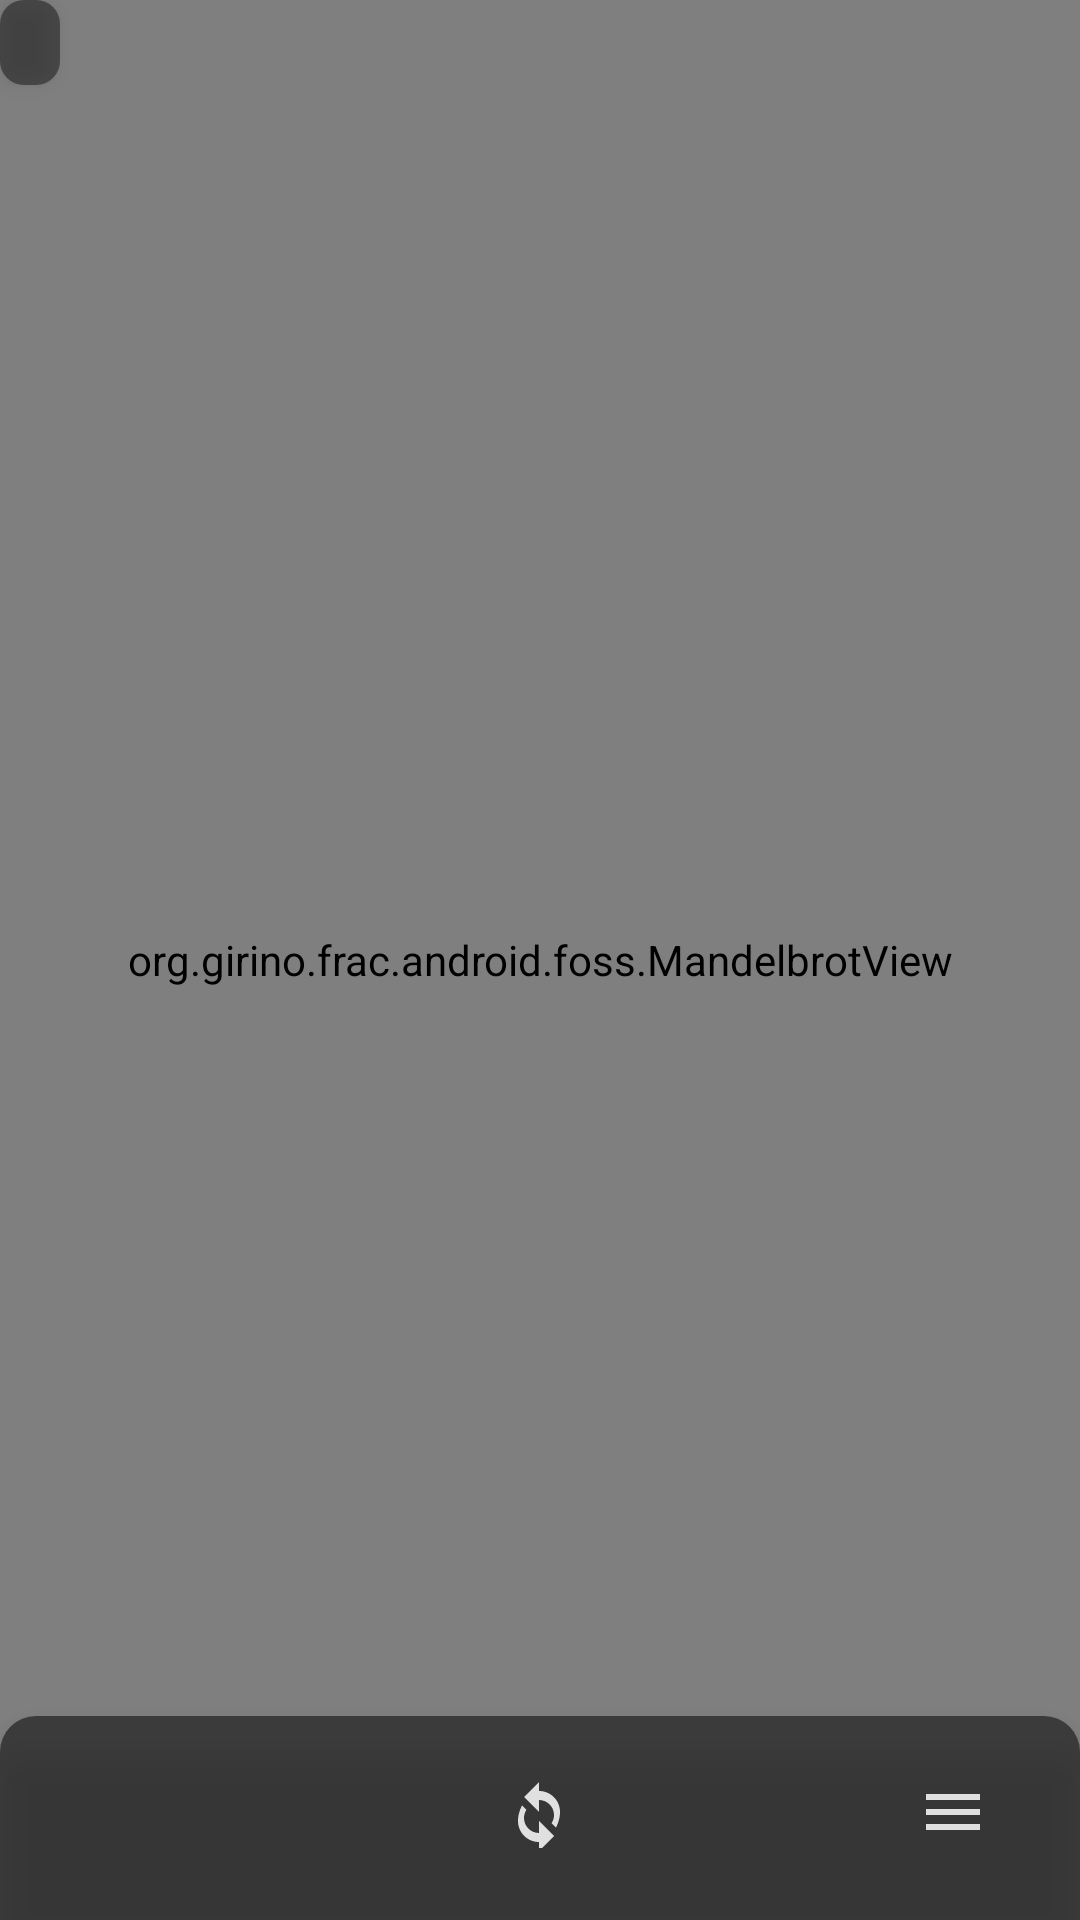

Locate icon controls on the screen. Image size 1080w x 1920h, boxes as box=[x1, y1, x2, y2].
Open menu: box=[926, 1794, 980, 1830]
Reset viewport: box=[518, 1782, 560, 1848]
